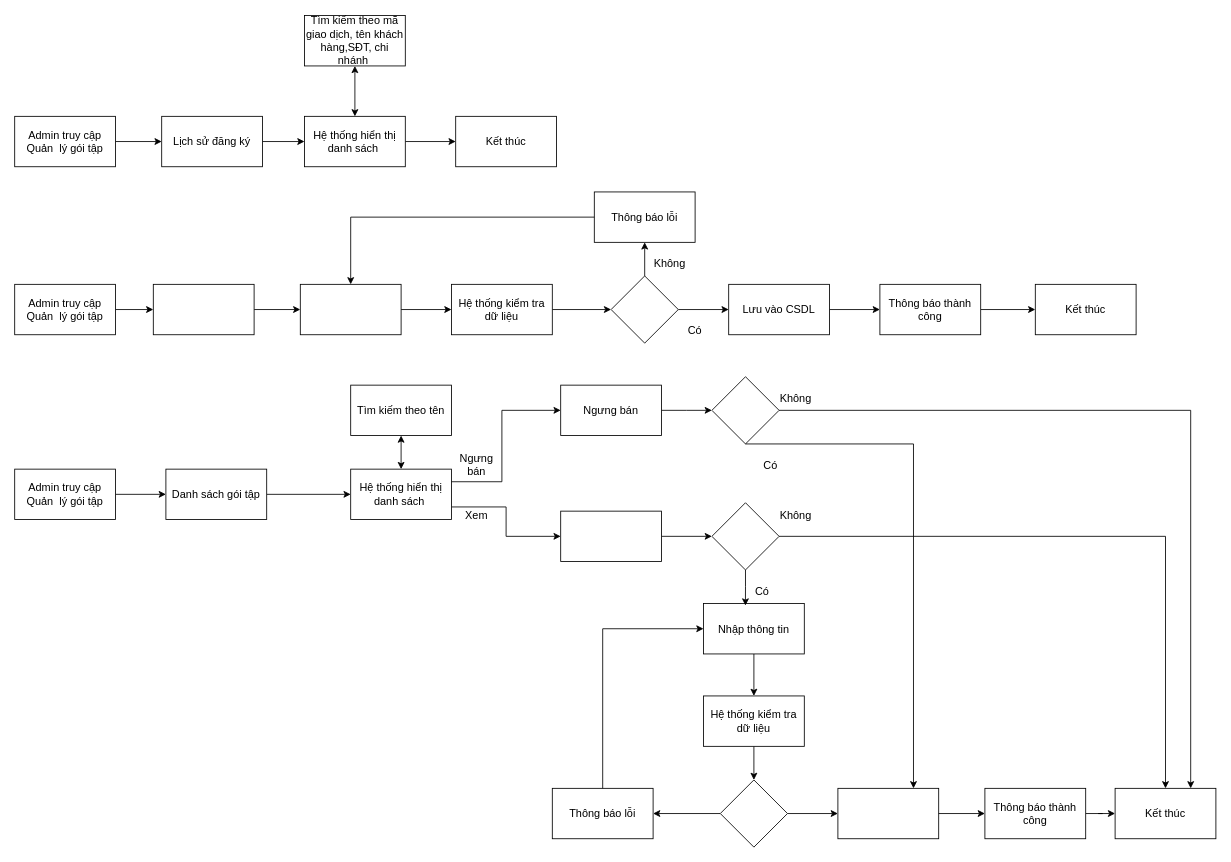
This 1231x862 diagram has some shape labels left out. The shapes that lost their labels are listed below. From the top down, each one's centre as x and y in pixels, then its label:
At point (203, 309): "Tạo gói tập".
At point (350, 309): "Nhập thông tin gói".
At point (644, 309): "Hợp lệ ?".
At point (745, 410): "Xác nhận?".
At point (611, 536): "Xem chi tiết gói tập".
At point (745, 536): "Có chỉnh sửa không?".
At point (753, 813): "Hợp lệ?".
At point (888, 813): "Lưu hệ thống".
